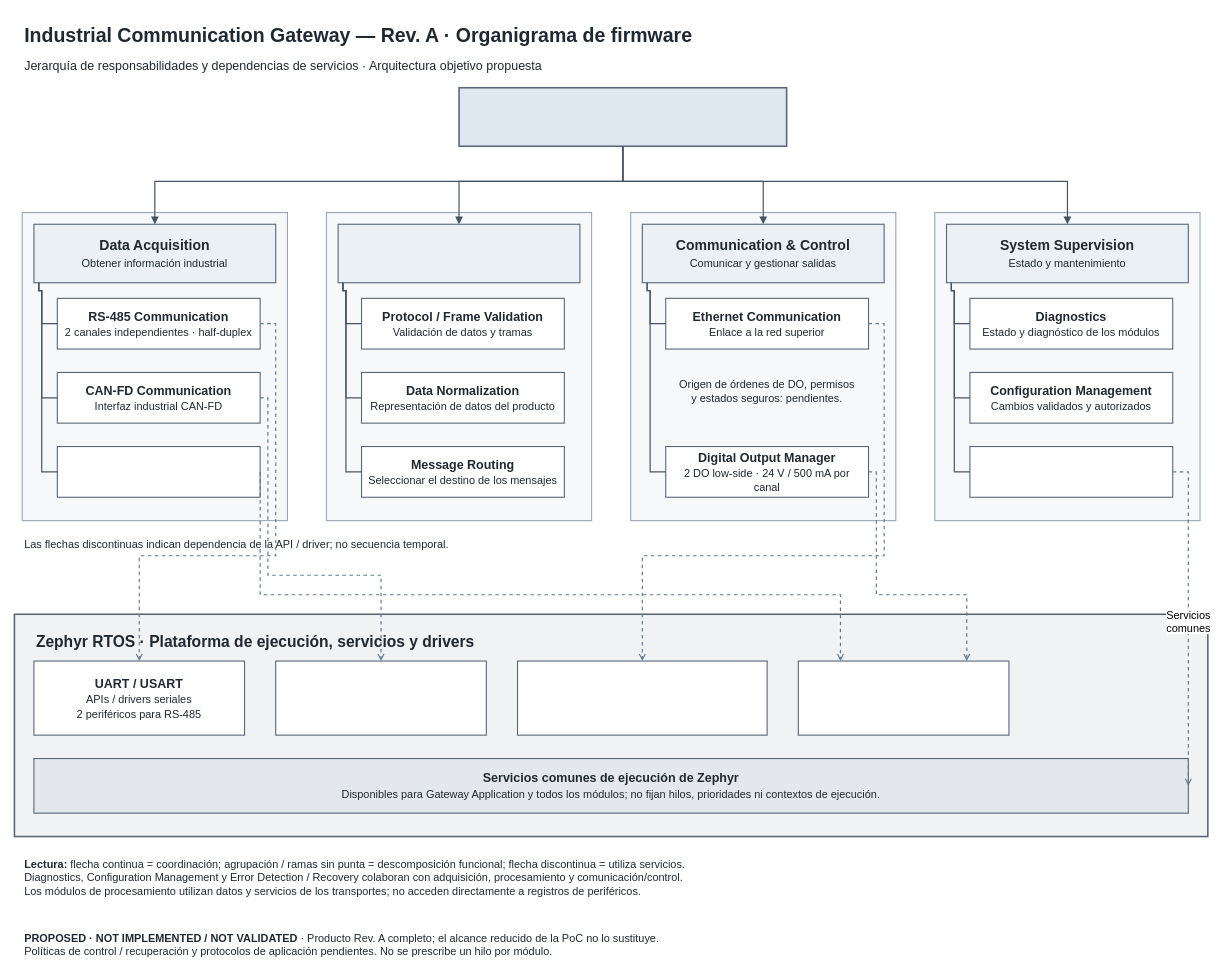
This 1224x978 diagram has some shape labels left out. Each missing label, with the centre of its shape:
"Data Processing Tratar la información adquirida" belongs at point (458, 253).
"Digital Input Manager 4 entradas industriales · 24 V" belongs at point (158, 471).
"Error Detection / Recovery Detección y recuperación controlada" belongs at point (1071, 471).
"Ethernet MAC / Network Stack Drivers y servicios de red Comunicación Ethernet" belongs at point (642, 697).
"FDCAN API CAN / driver FDCAN Comunicación CAN-FD" belongs at point (380, 697).
"Gateway Application Coordinación general del funcionamiento" belongs at point (622, 117).
"GPIO API / driver compartido 4 entradas + 2 salidas" belongs at point (903, 697).
